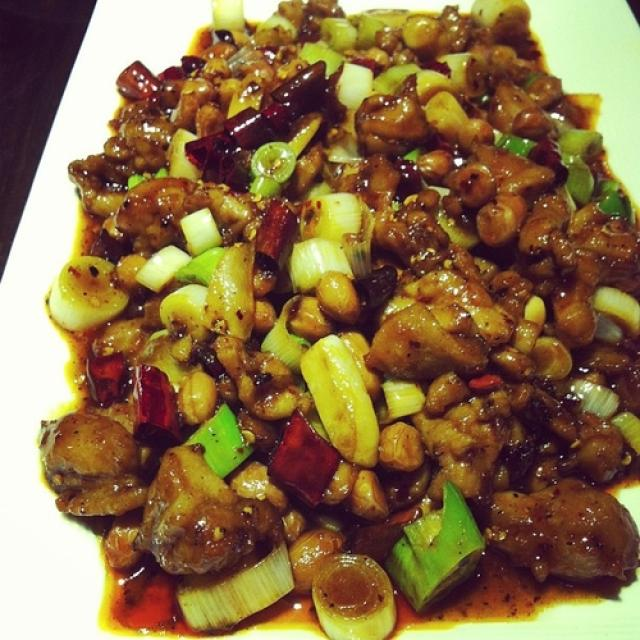鸡肉料理 含炸鸡: (45, 15, 626, 608)
